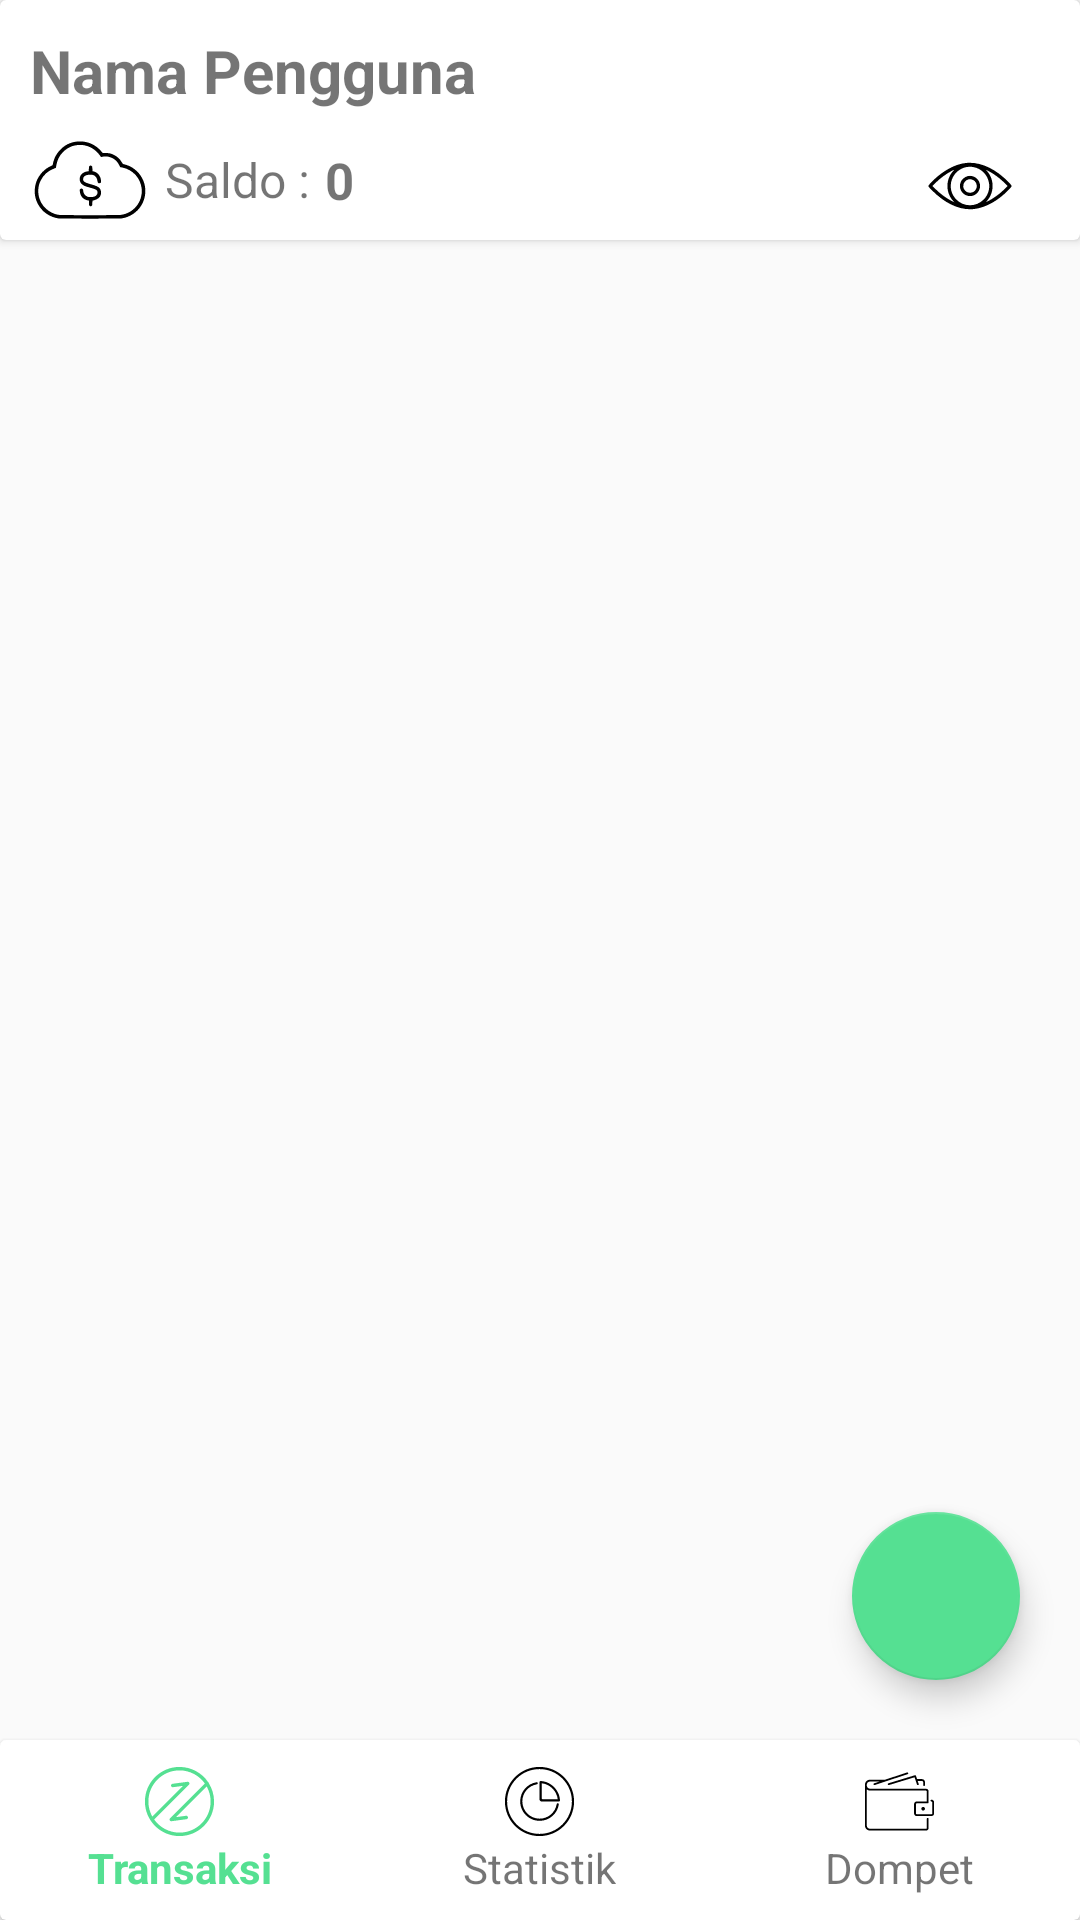

Screen size 1080 x 1920. Icon name, then its center in pixels as point (x, y):
Deskripsi untuk ikon uang: point (90, 180)
eye: point (970, 186)
